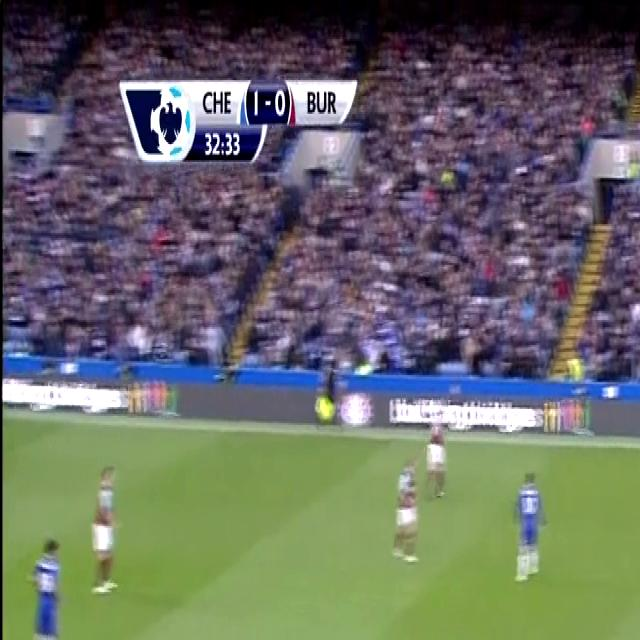referee: (314, 354, 346, 434)
soccer-player: (83, 449, 126, 601), (18, 522, 67, 640), (507, 453, 548, 588), (387, 454, 423, 573), (420, 408, 456, 512)
